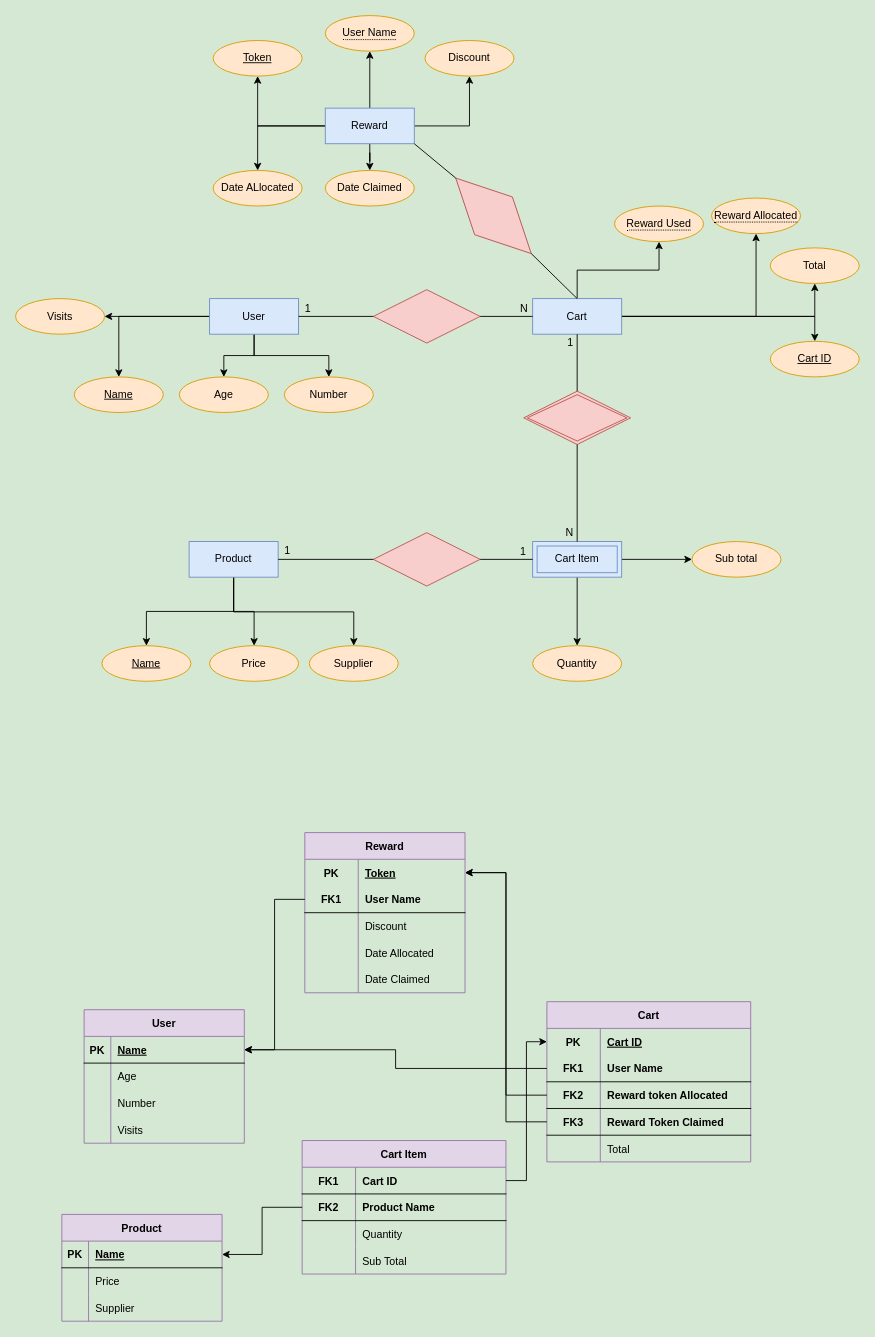
Image size: 875x1337. Some labels were removed from this diagram. Each missing label, with the centre of its shape:
has: point 577,417
made of: point 426,559
shops: point 426,316
updates: point 493,215
